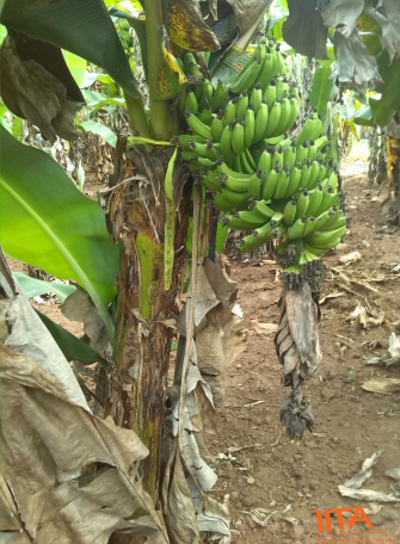bananaHand: (172, 14, 351, 283)
